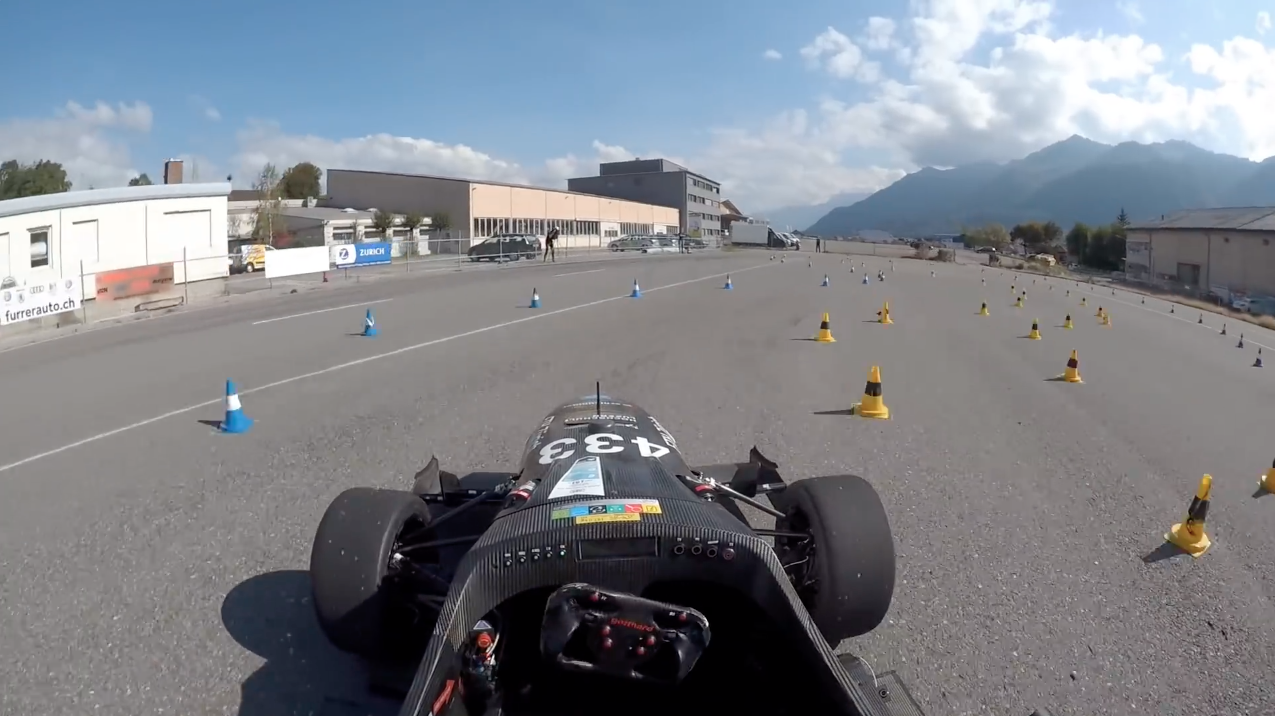lcone: (211, 376, 257, 438), (354, 306, 386, 342)
rcone: (1153, 468, 1230, 561), (850, 358, 897, 424), (811, 307, 841, 347), (1058, 347, 1087, 387)
